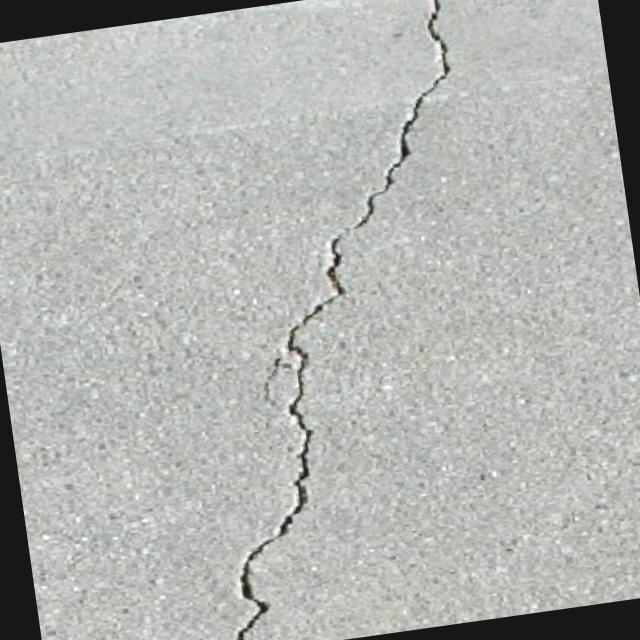crack: (141, 0, 535, 640)
